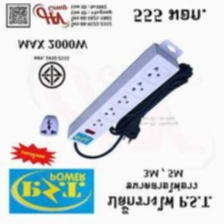three_eye_plug: (64, 37, 181, 149), (34, 113, 60, 139)
